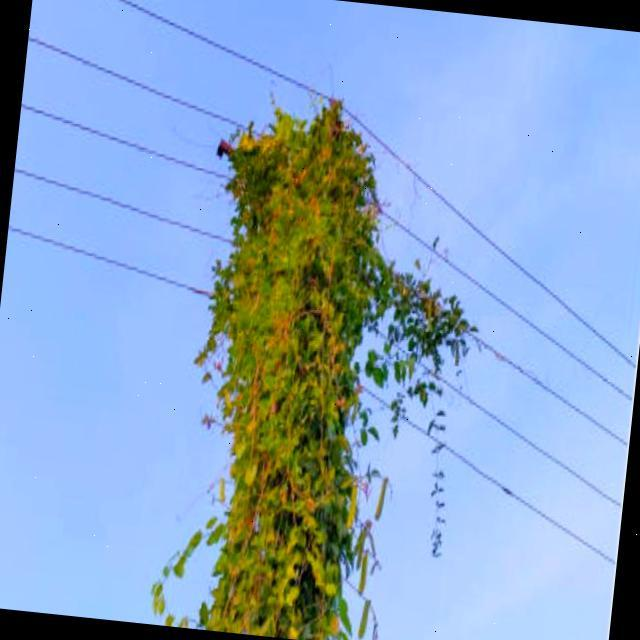critical vegetation: (157, 33, 432, 640)
